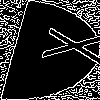X: (25, 25, 100, 66)
